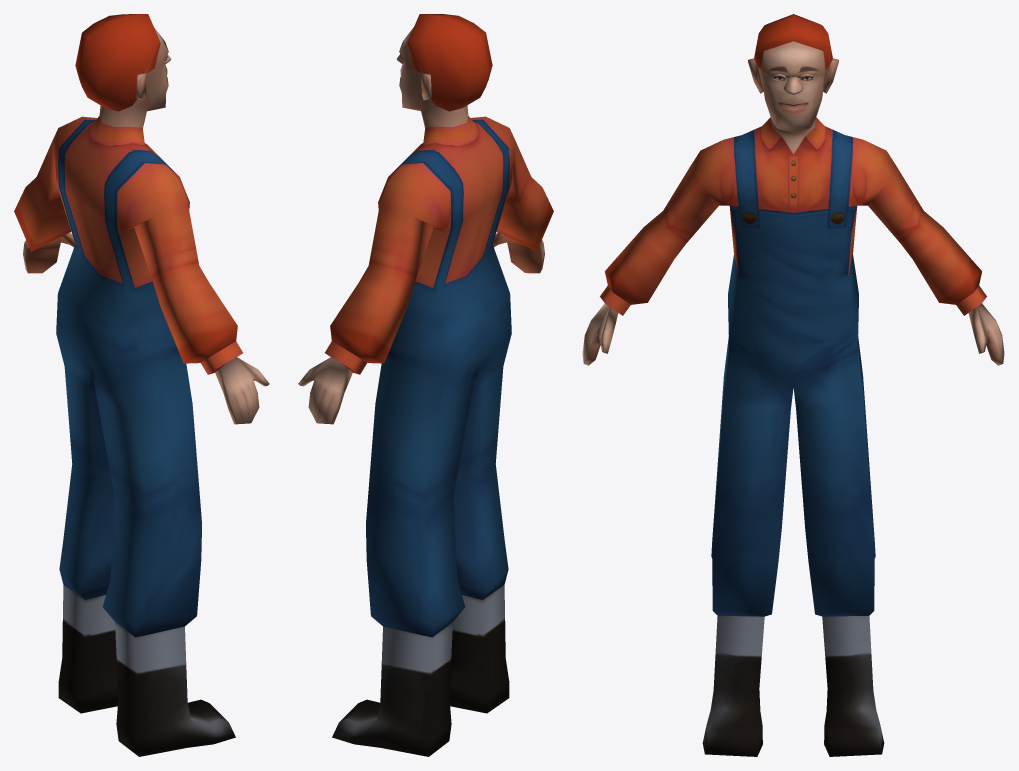
Rendered from Low_Poly_Farmer.glb.
3 views of the same model, side by side, from view 1: azimuth 30°, elevation 25°; view 2: azimuth 150°, elevation 25°; view 3: azimuth 270°, elevation 25° (orthographic).
Parts seen in each view (by area): view 1: 0; view 2: 0; view 3: 0.
Boxes of the visible parts, x1,y1,x2,y2 form: 0: (14, 14, 269, 756); 0: (298, 14, 553, 756); 0: (582, 14, 1004, 756).
Bounding box in the file's own units: 1.38 × 7.86 × 4.29.
Materials: 1 (1 with a texture image).
